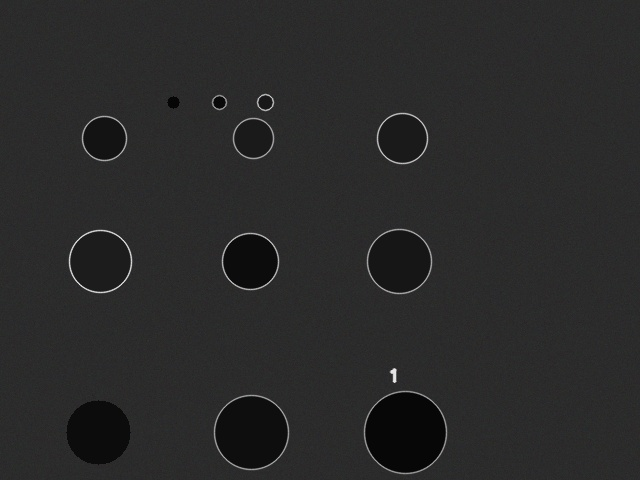hole: (364, 391, 446, 473), (214, 395, 288, 469), (367, 229, 431, 293), (66, 400, 130, 464), (69, 230, 131, 292), (222, 233, 278, 289), (377, 113, 427, 163), (82, 116, 126, 160), (233, 118, 273, 158), (257, 94, 273, 110), (212, 95, 226, 109), (167, 96, 179, 108)
